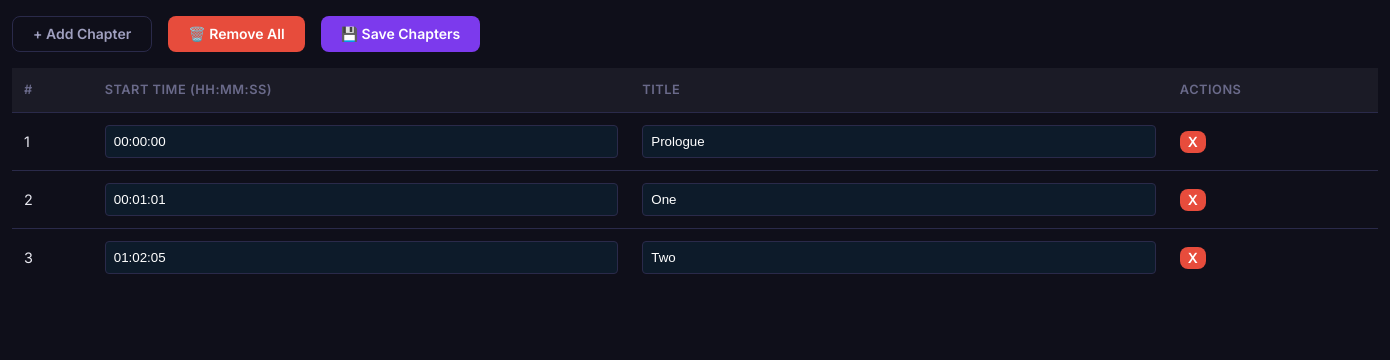
Test: ChapterEditor › confirms the save and re-reads the chapters the server kept
Expected: the table is shown, [12, 68, 1378, 286]
Click the button "💾 Save Chapters".
click(400, 34)  # box [321, 16, 480, 52]
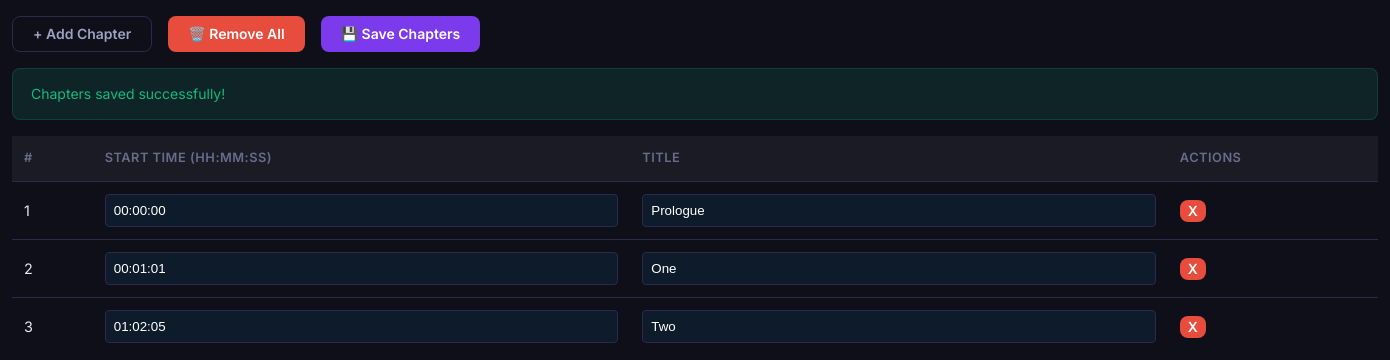
Expected: the text "Chapters saved successfully!" is shown, [12, 68, 1378, 120]
